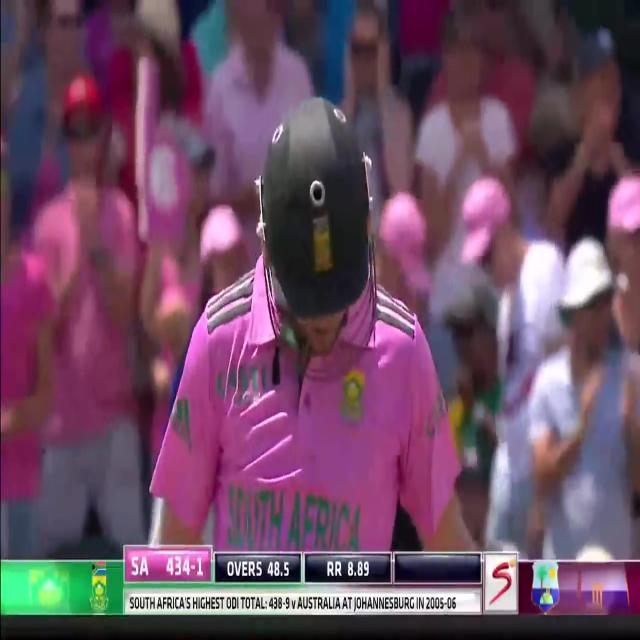Ball: (161, 97, 465, 552)
